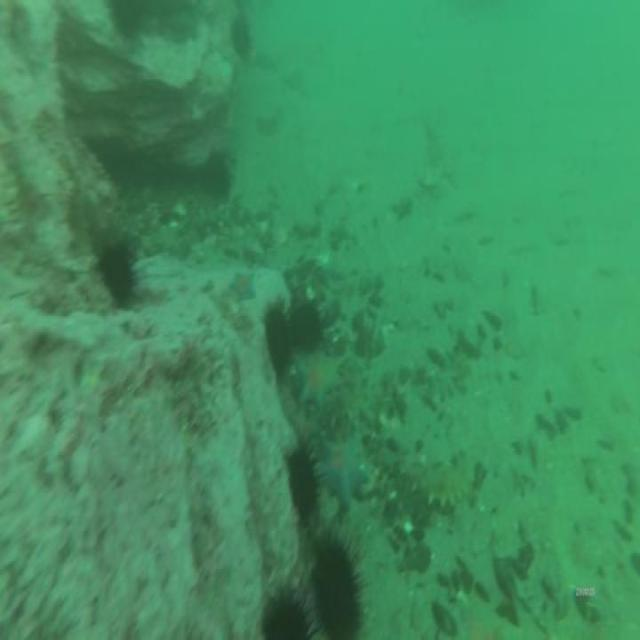echinus: (312, 550, 360, 634), (94, 250, 135, 300), (285, 452, 315, 514), (263, 308, 292, 372), (265, 597, 308, 640), (288, 302, 323, 349), (201, 153, 230, 199), (231, 14, 253, 62)
holothurian: (404, 455, 474, 509)
starfish: (320, 428, 370, 508), (297, 362, 338, 403), (229, 272, 255, 303)
